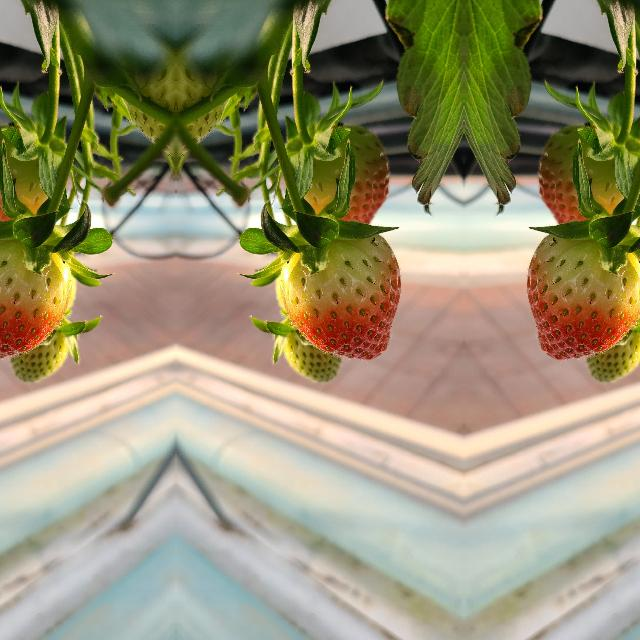Health_25: (268, 306, 344, 390), (6, 306, 82, 390), (581, 306, 640, 390)
Health_50: (292, 116, 388, 228), (538, 116, 634, 228), (0, 116, 58, 228)
Health_75: (279, 234, 399, 360), (527, 234, 640, 359), (0, 234, 71, 359)
